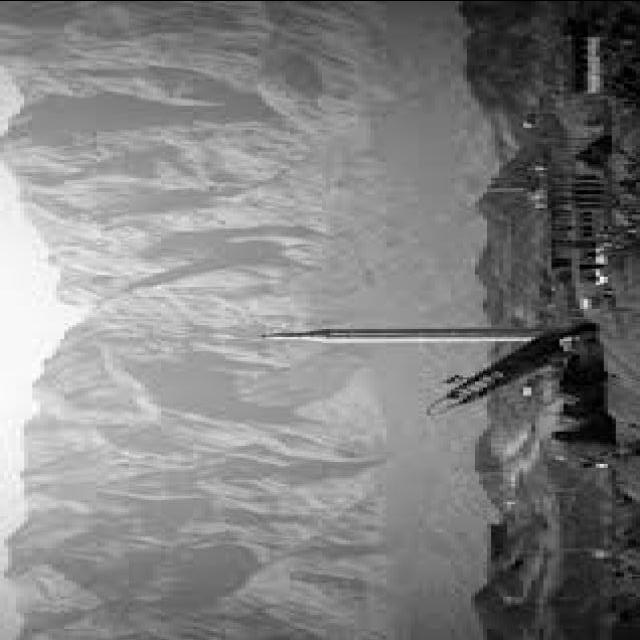missile: (243, 321, 541, 344)
